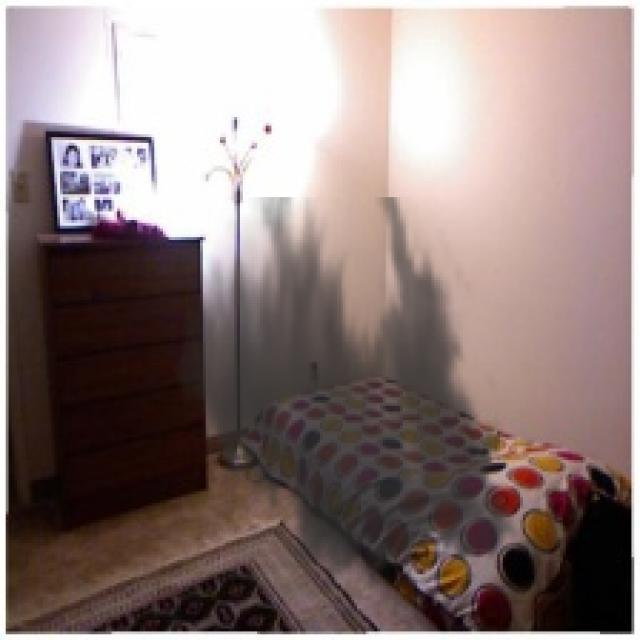Smoke: (162, 197, 528, 597)
